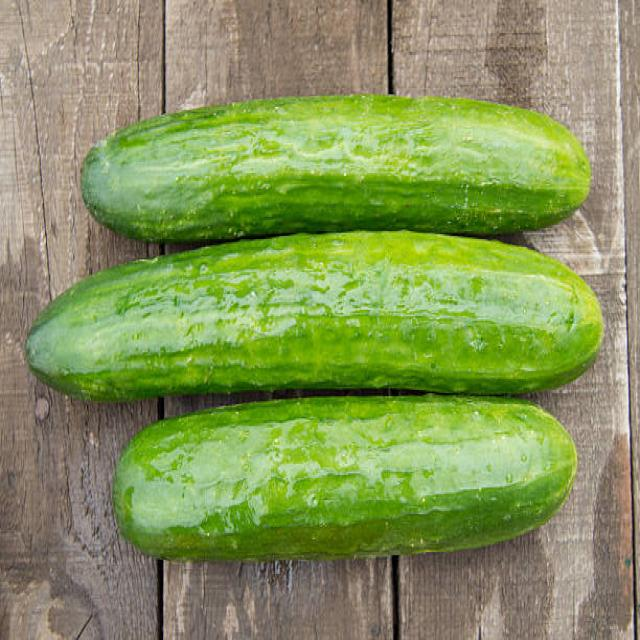cucumber: (27, 230, 607, 398), (111, 396, 577, 558), (78, 93, 591, 236)
